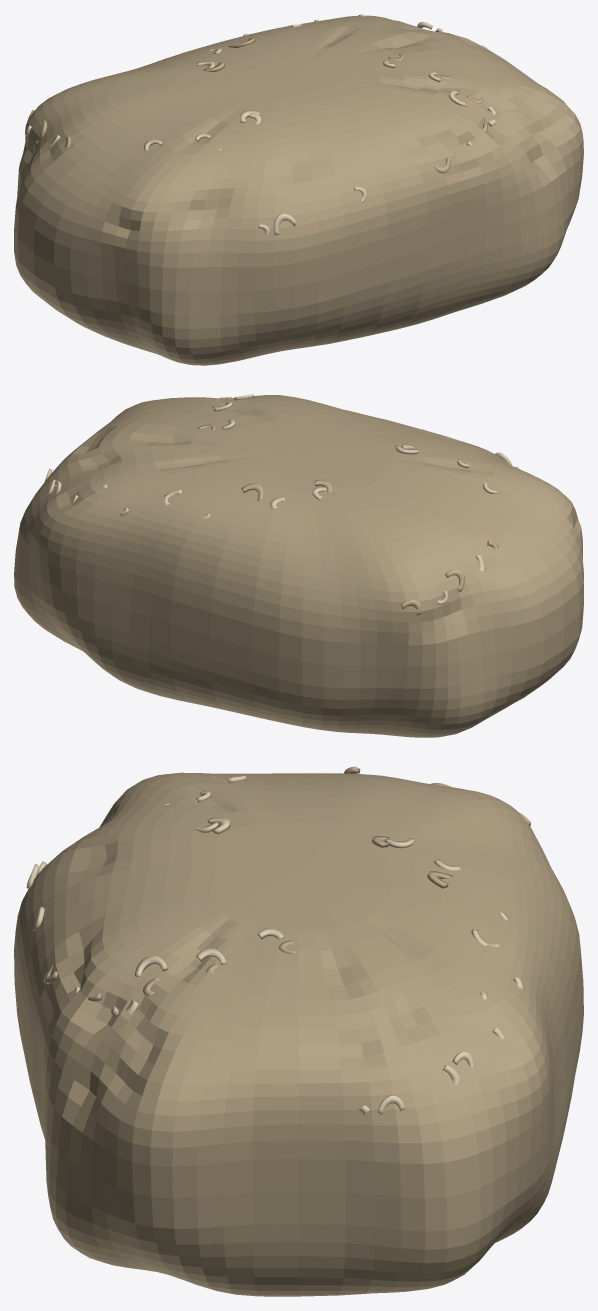
The model's file is coquina-outcrop.glb.
3 views of the same model, one above another, from view 1: azimuth 30°, elevation 25°; view 2: azimuth 150°, elevation 25°; view 3: azimuth 270°, elevation 25° (orthographic). The views are drawn at different scales.
Parts seen in each view (by area): view 1: continuous-lithified-porous-shell-rock-matrix, embedded-broken-shell-arcs-and-exposed-cross-sections; view 2: continuous-lithified-porous-shell-rock-matrix, embedded-broken-shell-arcs-and-exposed-cross-sections; view 3: continuous-lithified-porous-shell-rock-matrix, embedded-broken-shell-arcs-and-exposed-cross-sections.
Boxes of the visible parts, bbox=[...] form: continuous-lithified-porous-shell-rock-matrix: bbox=[14, 15, 583, 365]; embedded-broken-shell-arcs-and-exposed-cross-sections: bbox=[25, 14, 497, 235]; continuous-lithified-porous-shell-rock-matrix: bbox=[14, 395, 583, 737]; embedded-broken-shell-arcs-and-exposed-cross-sections: bbox=[44, 394, 519, 615]; continuous-lithified-porous-shell-rock-matrix: bbox=[14, 772, 583, 1296]; embedded-broken-shell-arcs-and-exposed-cross-sections: bbox=[26, 766, 530, 1114].
Size of the model in its own units: 0.8179 by 0.3557 by 0.5708.
